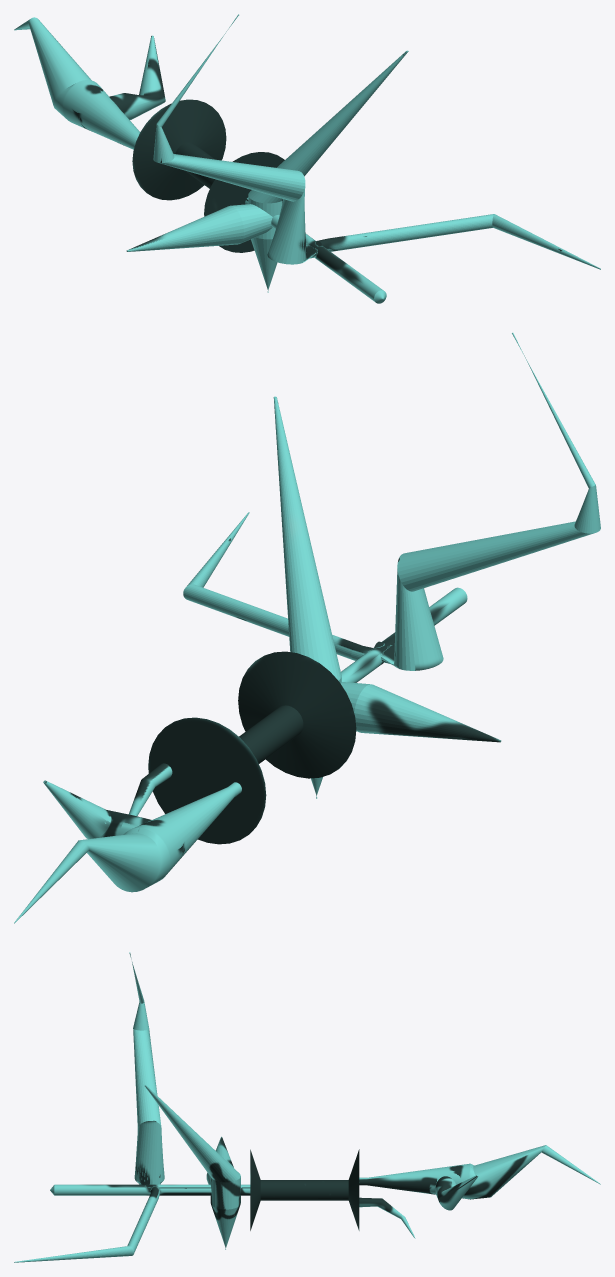
Rendered from Double Sided Sword.fbx.
The picture shows the model from 3 angles, top to bottom: view 1: azimuth 30°, elevation 25°; view 2: azimuth 150°, elevation 25°; view 3: azimuth 270°, elevation 25°; orthographic projection. The views are drawn at different scales.
Parts seen in each view (by area): view 1: Cylinder; view 2: Cylinder; view 3: Cylinder.
Part boxes in pixels (x1,y1,x2,y2): Cylinder: [14, 14, 600, 303]; Cylinder: [14, 332, 600, 923]; Cylinder: [14, 952, 600, 1262].
Size of the model in its own units: 618 by 565 by 1141.
